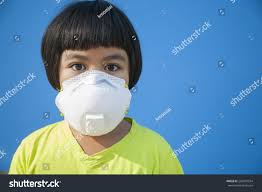with-mask: (49, 10, 141, 138)
